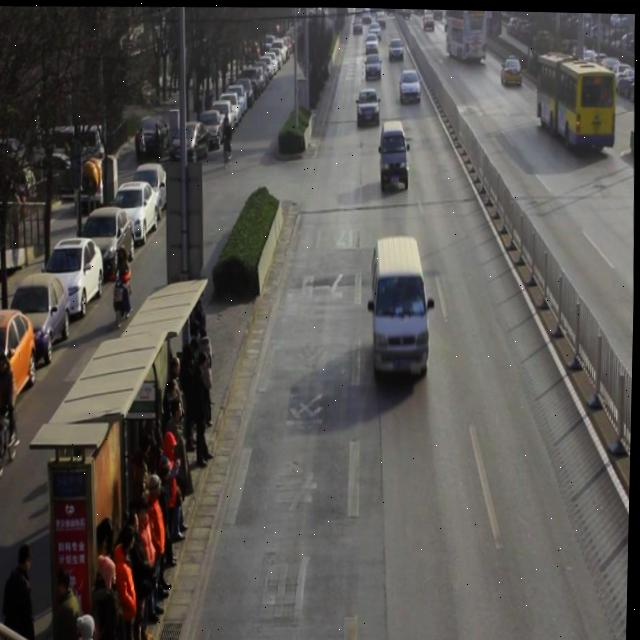car: (356, 86, 381, 126), (399, 67, 422, 104), (501, 55, 524, 86), (364, 50, 383, 80)
truck: (370, 234, 434, 381), (379, 118, 411, 192)
van: (534, 47, 615, 148)
